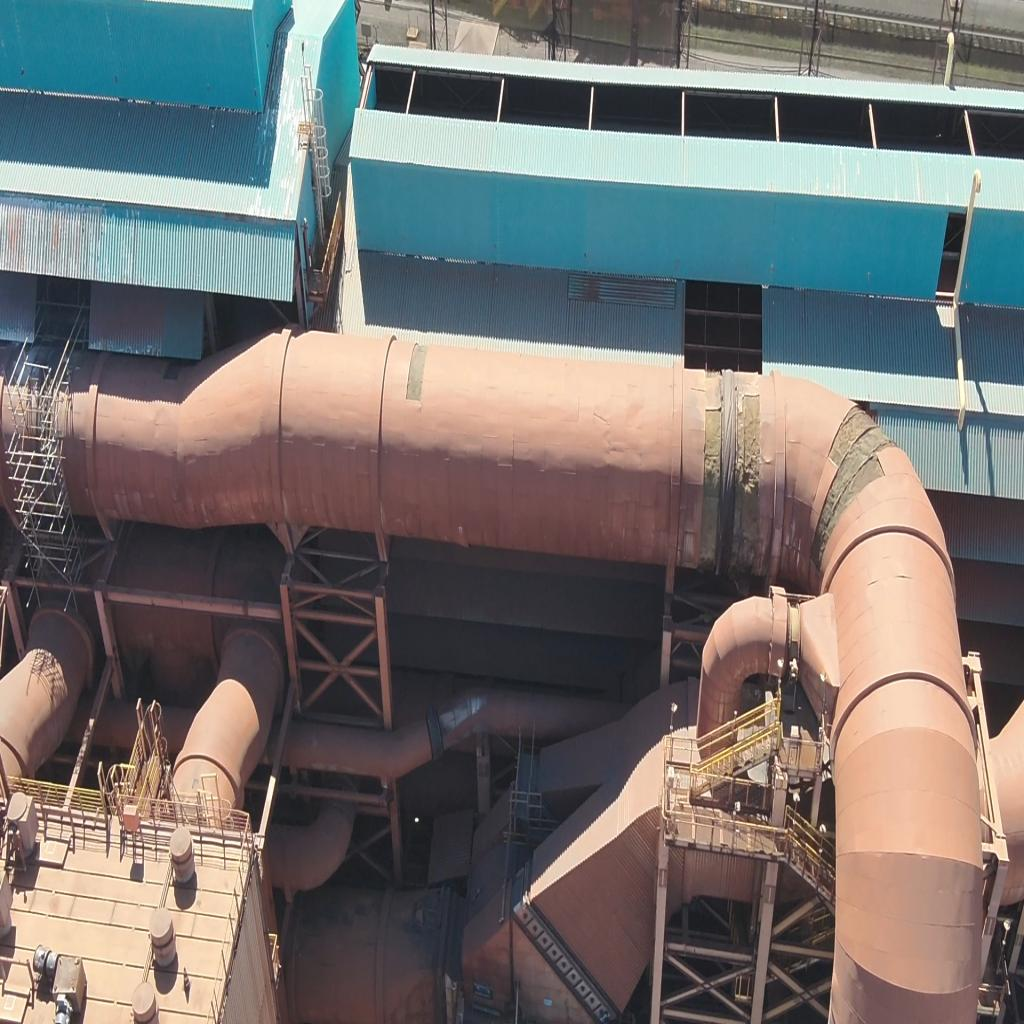Failures: (813, 396, 907, 552), (734, 394, 772, 564), (696, 406, 729, 574), (405, 342, 432, 412)
